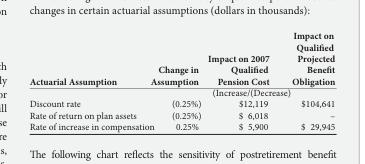table: (28, 28, 334, 132)
table column: (28, 28, 151, 132), (203, 28, 279, 132), (279, 28, 334, 132), (151, 28, 203, 132)
table column header: (28, 28, 334, 97)
table row: (28, 28, 334, 86), (28, 97, 334, 109), (28, 120, 334, 132), (28, 86, 334, 97), (28, 109, 334, 120)
table spanning cell: (28, 28, 151, 97), (151, 86, 334, 97)
